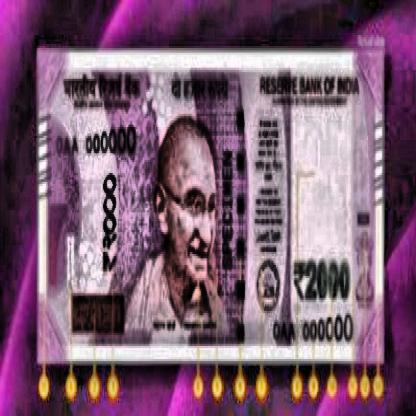Rs2000: (291, 252, 354, 307)
